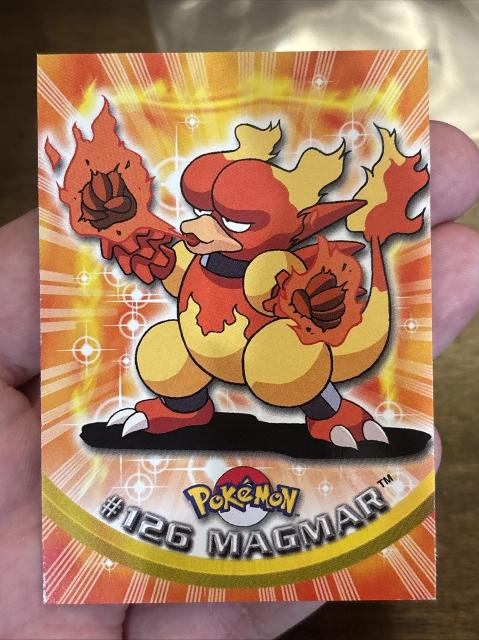Card: (32, 43, 443, 611)
Name: (203, 480, 394, 559)
